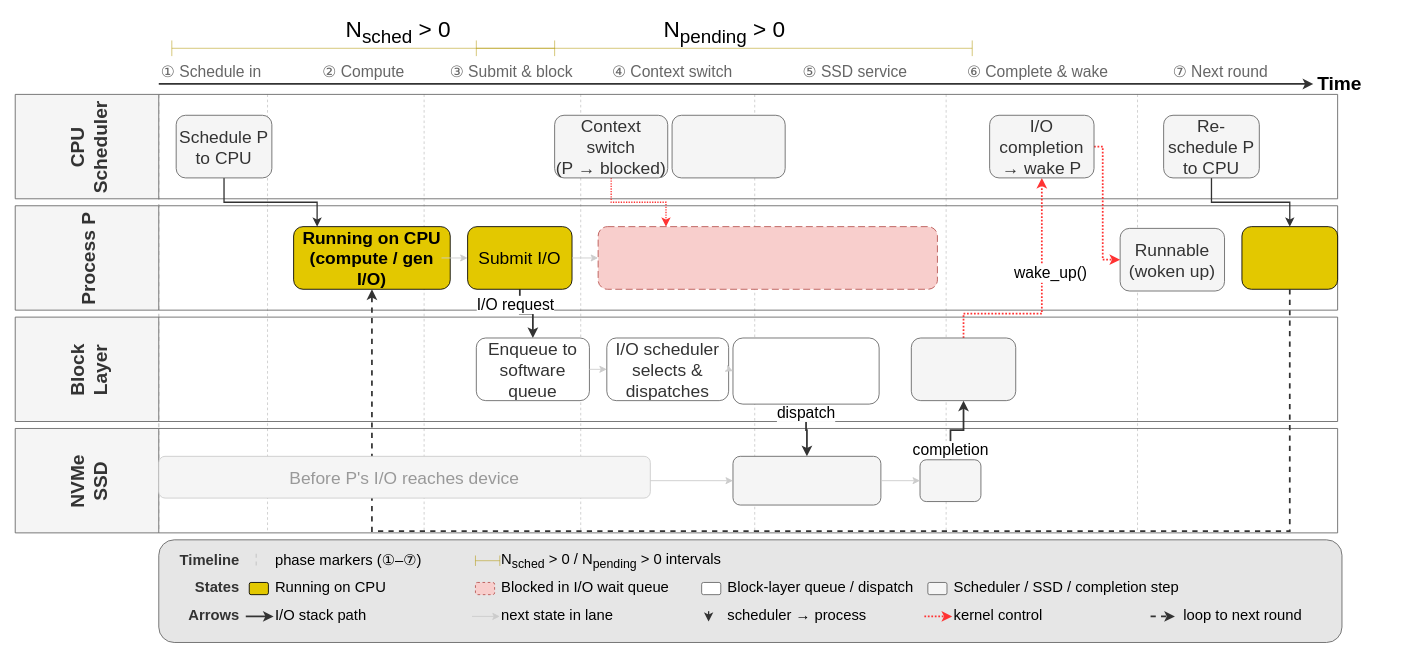
This 1401x658 diagram has some shape labels left out. Each missing label, with the centre of its shape:
Blocked (I/O wait queue): point 767,257
Completion callback / IRQ: point 963,369
Done: point 950,480
Execute I/O: point 806,480
Hardware queue (bytes in flight): point 805,370
Running again: point 1289,257
Schedule Q (other process): point 728,146
